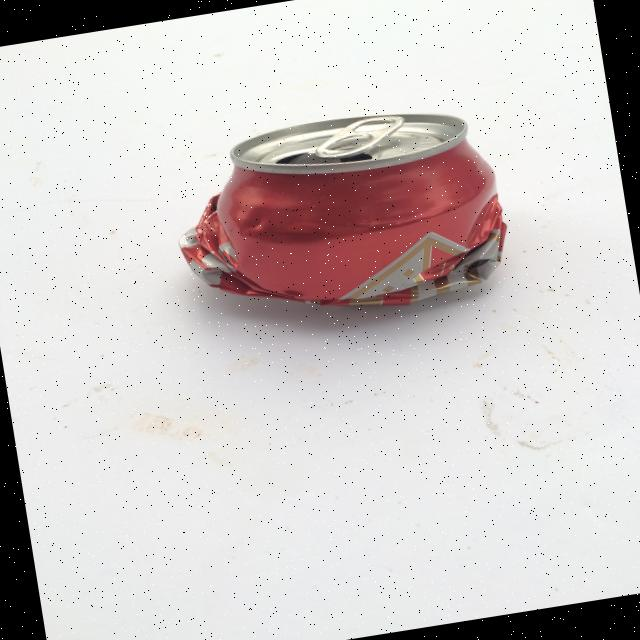metal: (162, 93, 518, 339)
